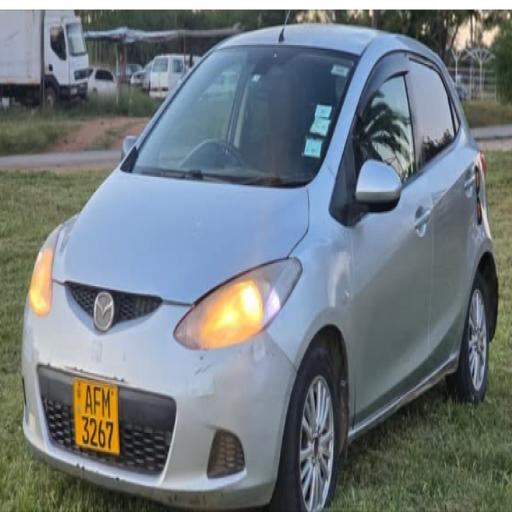number-plates: (71, 374, 118, 454)
